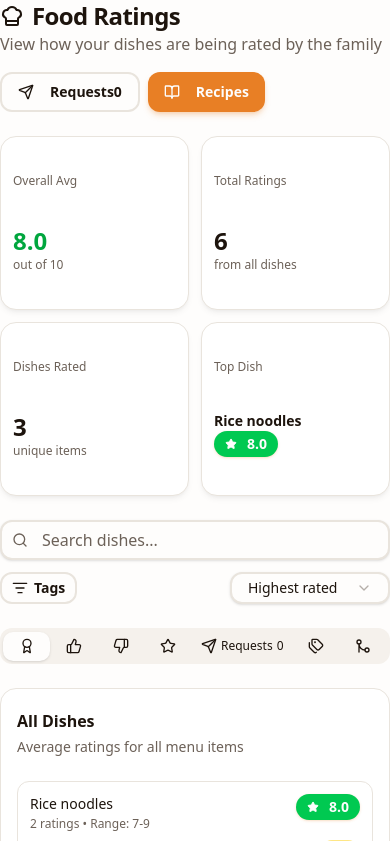
food request submission keeps the current page › keeps the History request view after submitting
Press the mouse on the tab "Requests 0" at coordinates (242, 646), box 192,632 -> 292,660
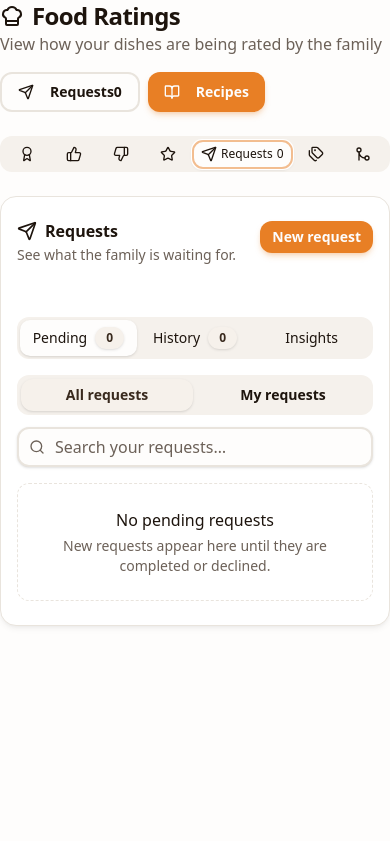
Press the mouse on the tab "History 0" at coordinates (195, 338), box 137,320 -> 253,356
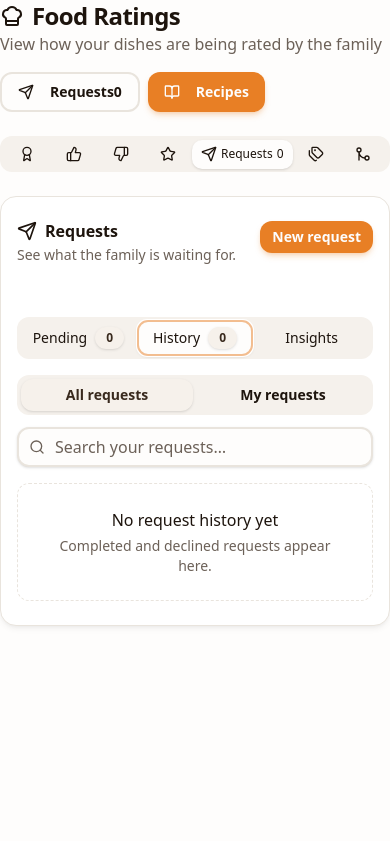
Click the button "New request" at coordinates (317, 237), box 260,221 -> 373,253
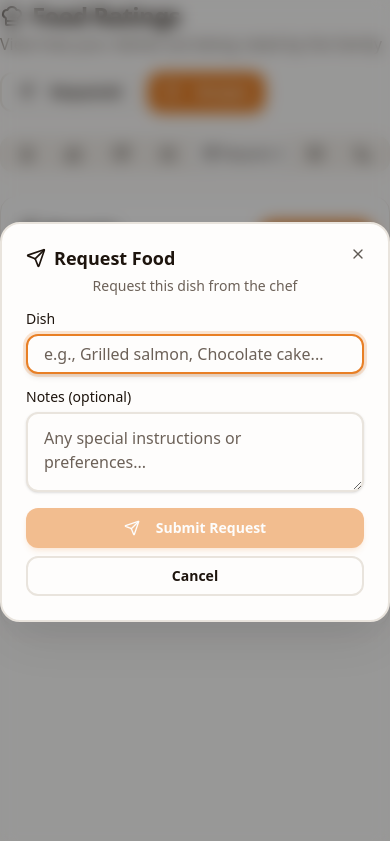
Type "Rice noodles" into the field labelled "Dish" at coordinates (195, 354), box 26,334 -> 364,374
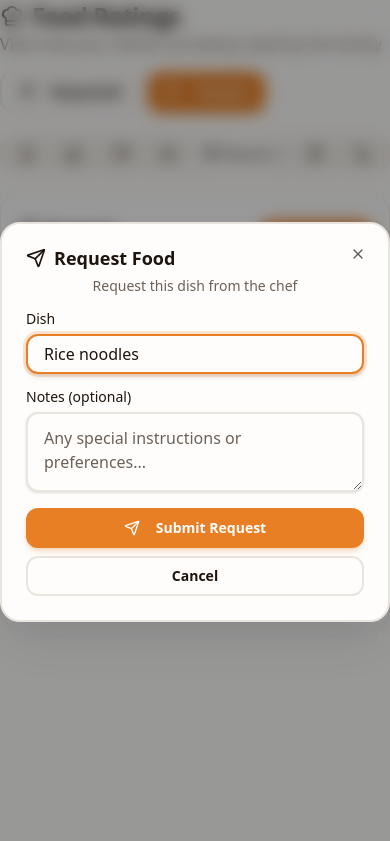
Click the button "Submit Request" at coordinates (195, 528), box 26,508 -> 364,548
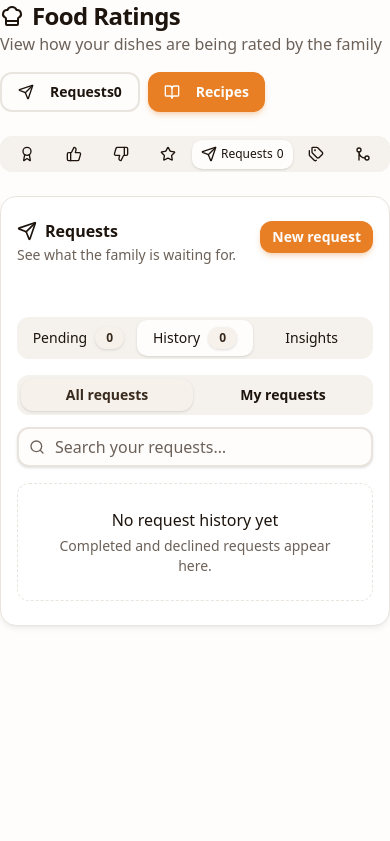
Expected: the dialog is gone
